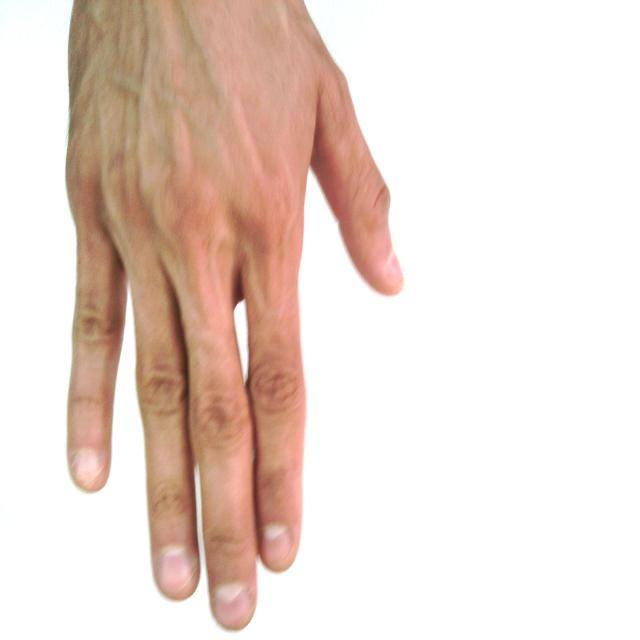Fingernail: (215, 585, 251, 627), (160, 549, 192, 594), (261, 525, 291, 565), (75, 451, 99, 484), (388, 255, 402, 282)
